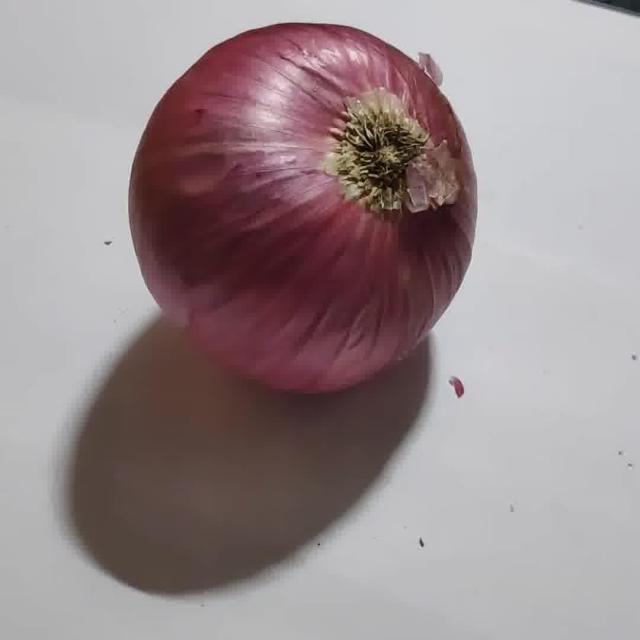Onion: (129, 23, 476, 392)
